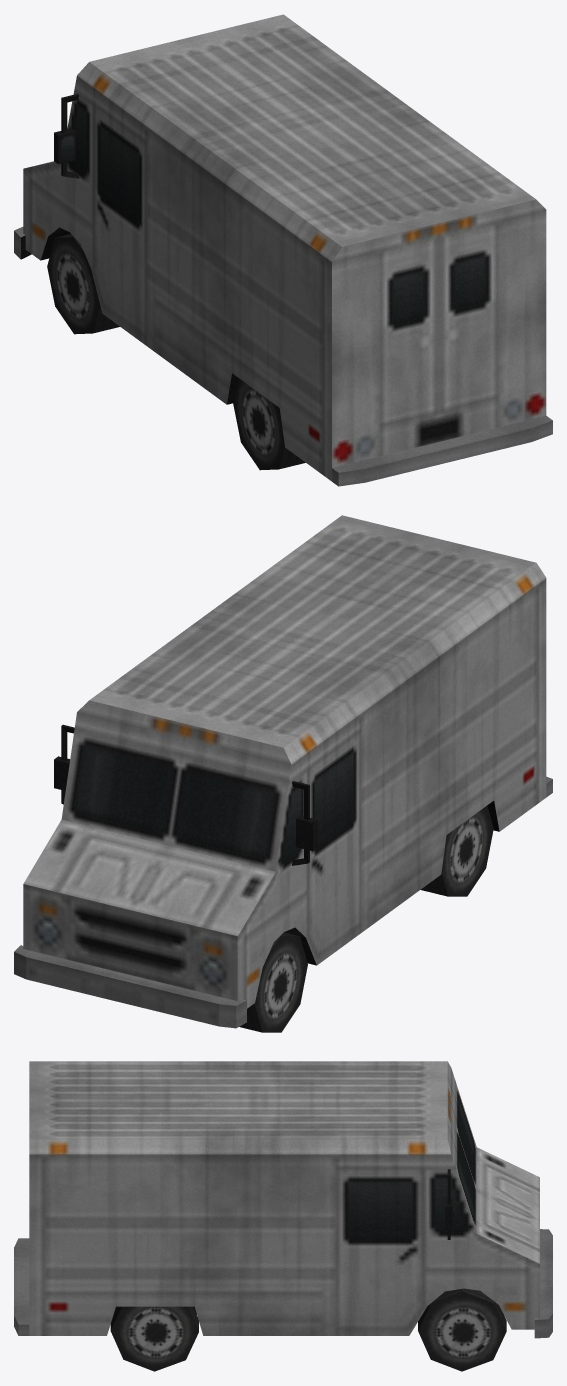
Rendered from van_wreck.glb.
The picture shows the model from 3 angles, top to bottom: view 1: azimuth 30°, elevation 25°; view 2: azimuth 150°, elevation 25°; view 3: azimuth 270°, elevation 25°; orthographic projection. The views are drawn at different scales.
Parts seen in each view (by area): view 1: van_wreck__car8_mat; view 2: van_wreck__car8_mat; view 3: van_wreck__car8_mat.
Part boxes in pixels (<box>): van_wreck__car8_mat: <box>14,14,552,486</box>; van_wreck__car8_mat: <box>14,515,552,1032</box>; van_wreck__car8_mat: <box>14,1061,552,1371</box>.
Bounding box in the file's own units: 2.57 × 2.63 × 5.6.
1 material, 1 textured.
